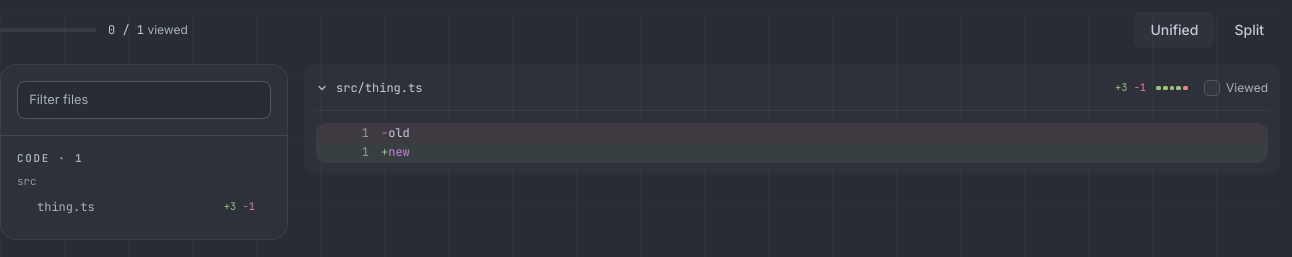
Test case: FilesChangedScreen (REQ-916) › says so when a filter matches nothing
Type "nothing-like-this" into the search field labelled "Filter files" at coordinates (144, 100), box top-left (17, 81), bottom-right (271, 119)
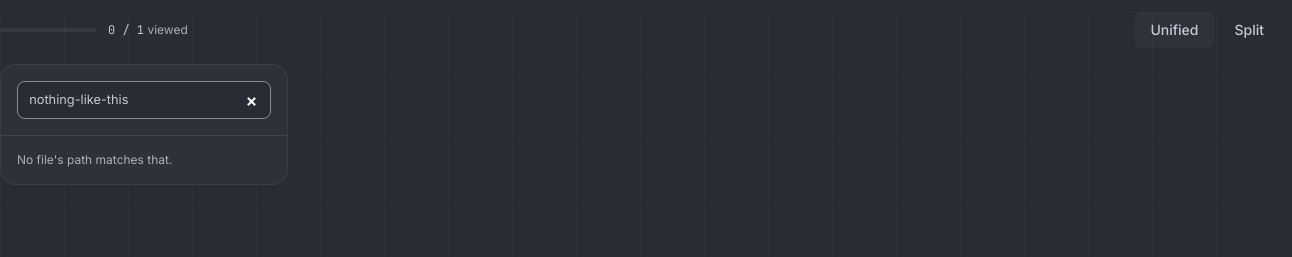
Check: the text "No file's path matches that." is shown, box top-left (17, 152), bottom-right (172, 167)
